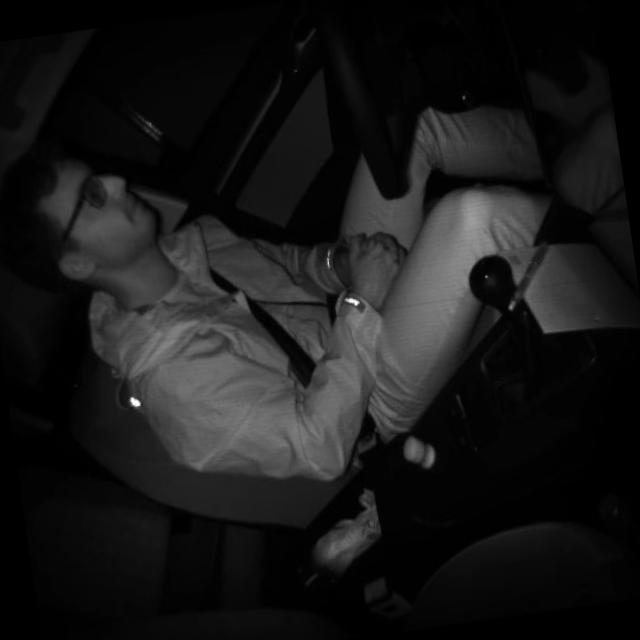pen: (498, 234, 560, 313)
